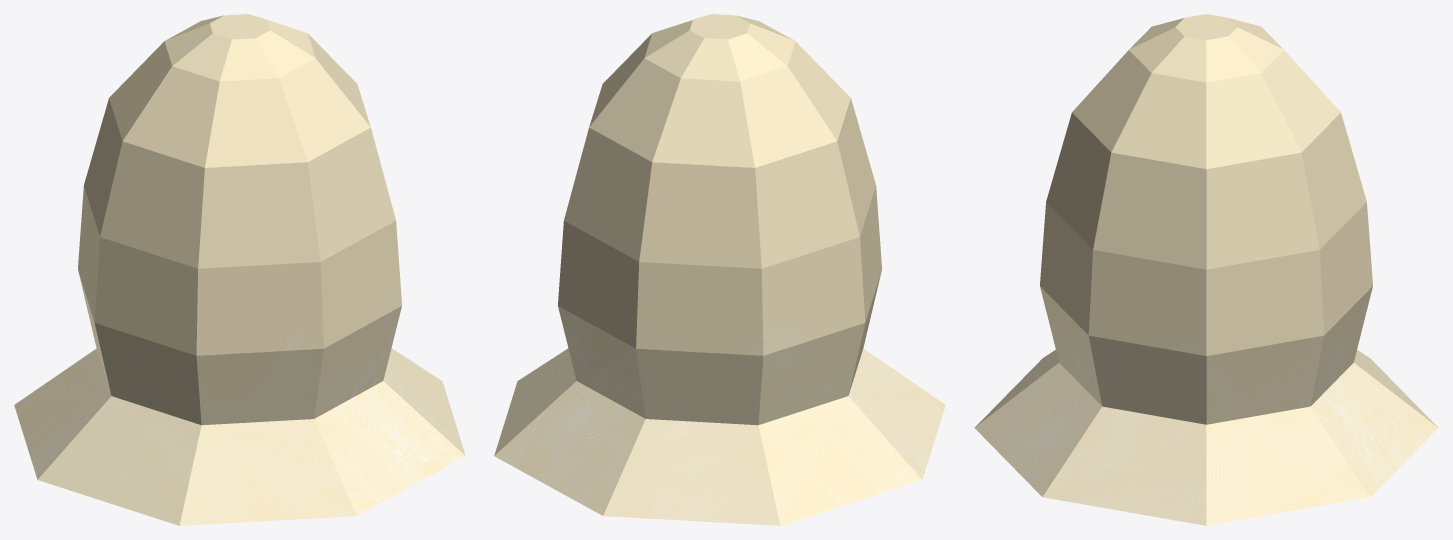
The model's file is Spider_Egg_01.fbx.
3 views of the same model, side by side, from view 1: azimuth 30°, elevation 25°; view 2: azimuth 150°, elevation 25°; view 3: azimuth 270°, elevation 25° (orthographic).
Parts seen in each view (by area): view 1: Model; view 2: Model; view 3: Model.
Part boxes in pixels (bbox=[...]): Model: bbox=[14, 14, 465, 525]; Model: bbox=[494, 14, 945, 525]; Model: bbox=[974, 14, 1438, 525].
Bounding box in the file's own units: 163 × 155 × 163.
